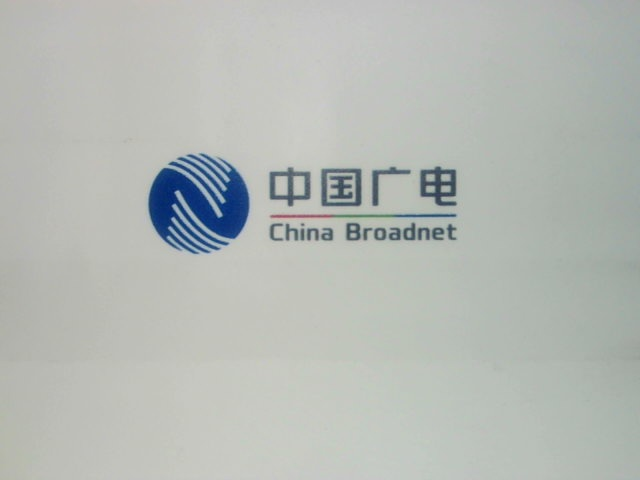AW_ChinaBroadNet: (145, 139, 467, 260)
